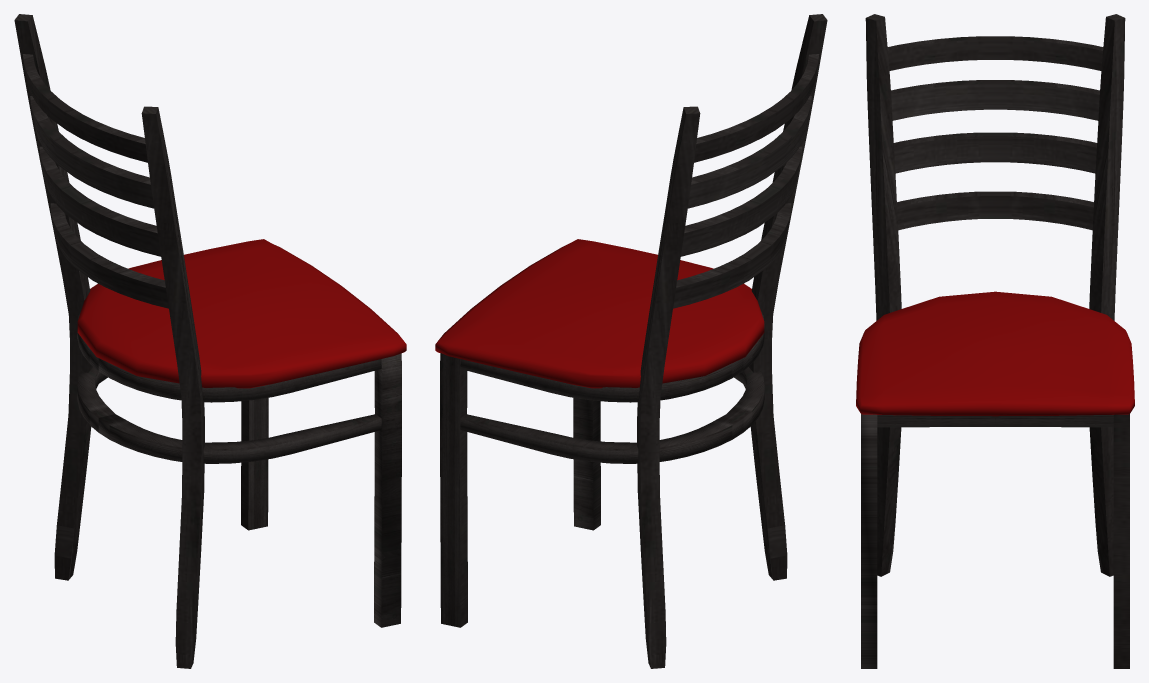
File: restaurantChair.fbx
3 renders of one model, left to right at view 1: azimuth 30°, elevation 25°; view 2: azimuth 150°, elevation 25°; view 3: azimuth 270°, elevation 25°, orthographic. The views are drawn at different scales.
Parts seen in each view (by area): view 1: Cube.001; view 2: Cube.001; view 3: Cube.001.
Boxes of the visible parts, box(x1,y1,x2,y2) form: Cube.001: box(14, 14, 406, 668); Cube.001: box(435, 14, 827, 668); Cube.001: box(856, 14, 1134, 668).
Size of the model in its own units: 224 by 427 by 200.
